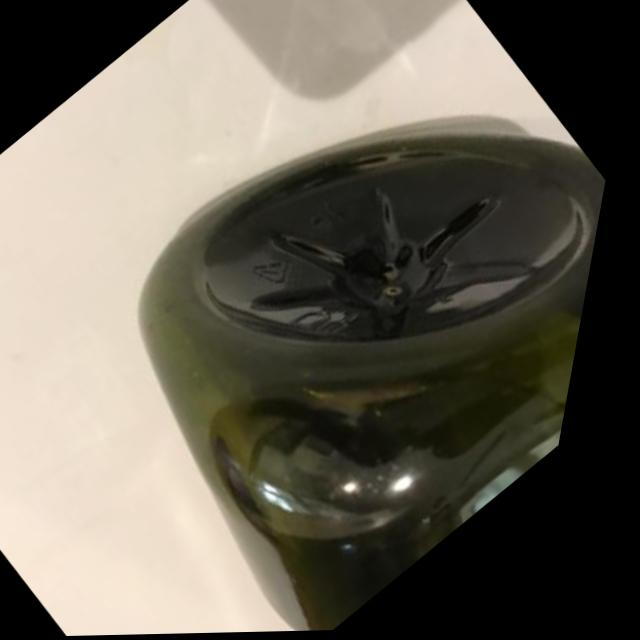plastic: (0, 0, 640, 639)
